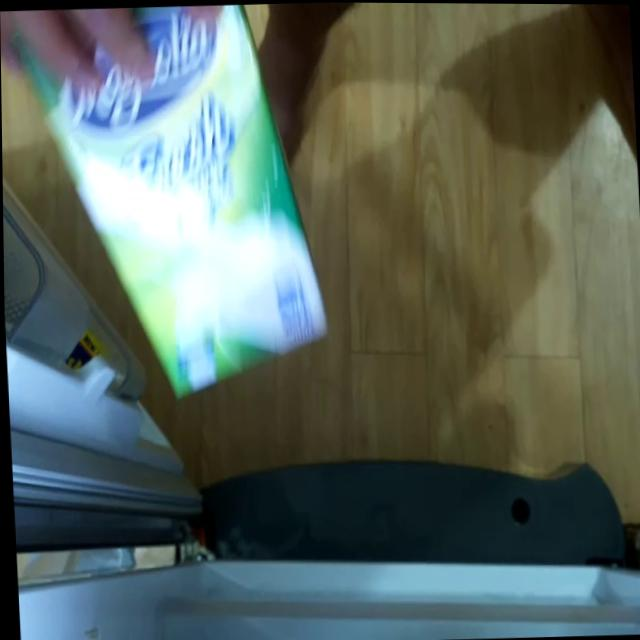milk: (7, 1, 329, 405)
